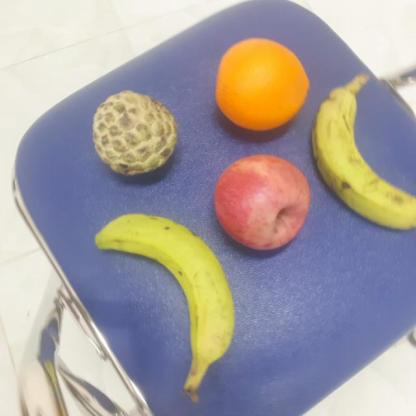annona: (91, 86, 184, 178)
apple: (213, 153, 313, 251)
banana: (93, 210, 240, 364), (313, 87, 416, 233)
orange: (214, 35, 310, 132)
